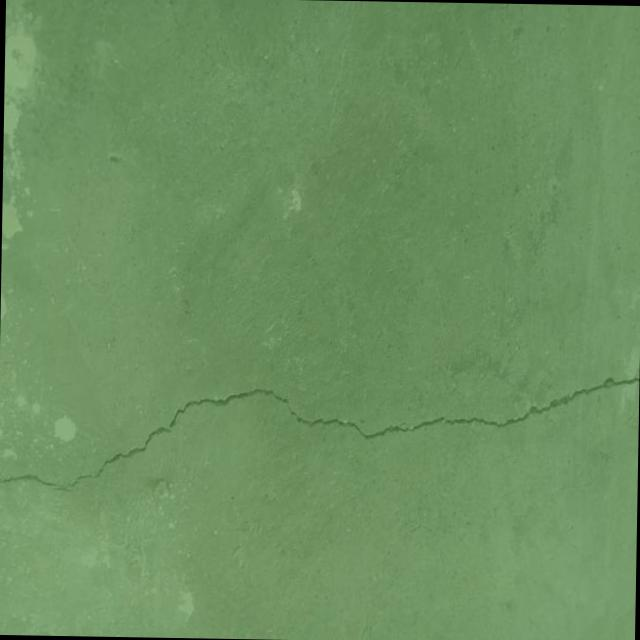crack: (0, 362, 639, 501)
